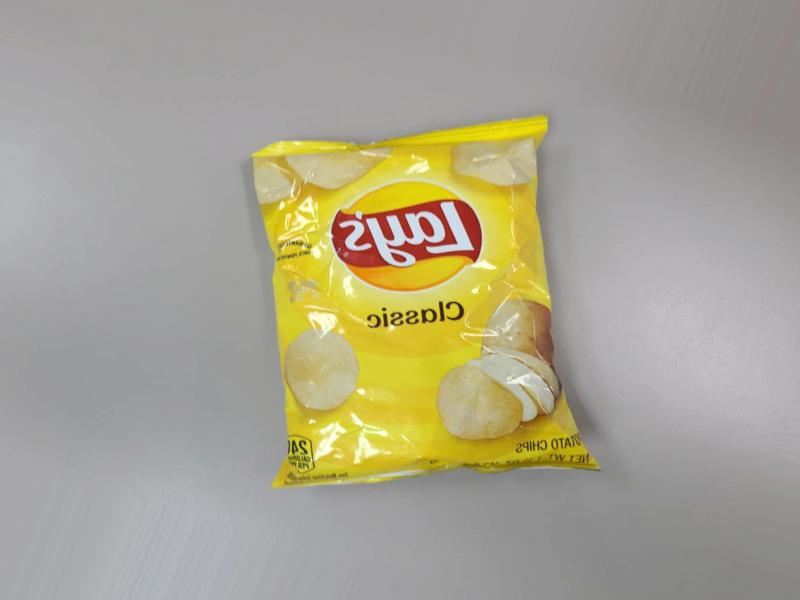lays: (244, 124, 602, 499)
